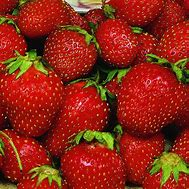Fresa: (118, 60, 189, 135), (1, 60, 65, 137), (47, 80, 112, 151), (61, 139, 126, 189), (44, 24, 99, 82), (1, 127, 57, 181), (96, 18, 137, 66), (142, 151, 189, 189), (159, 20, 189, 66), (18, 165, 68, 189), (1, 18, 27, 62)
